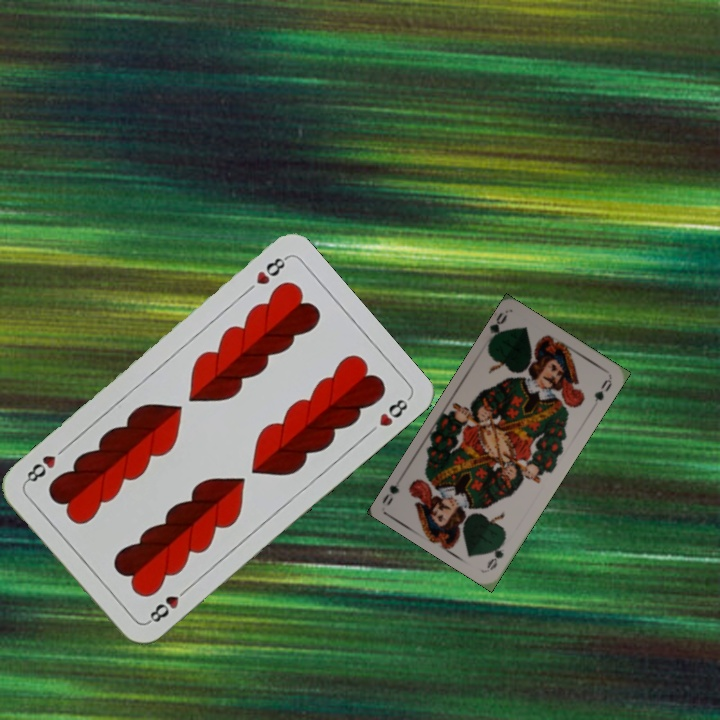GO: (483, 534, 508, 573), (484, 309, 509, 347)
H8: (143, 583, 192, 626), (252, 252, 290, 287)
